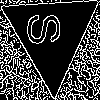S: (26, 10, 69, 47)
